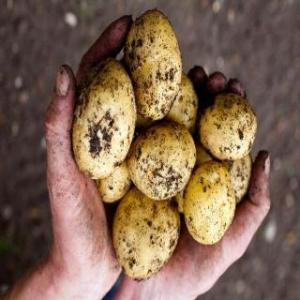potato: (72, 60, 132, 180), (125, 10, 182, 120), (114, 190, 176, 280), (128, 126, 194, 198), (202, 92, 256, 160), (185, 160, 227, 244), (173, 152, 211, 220), (223, 150, 255, 202), (168, 77, 200, 128), (99, 162, 130, 204)
